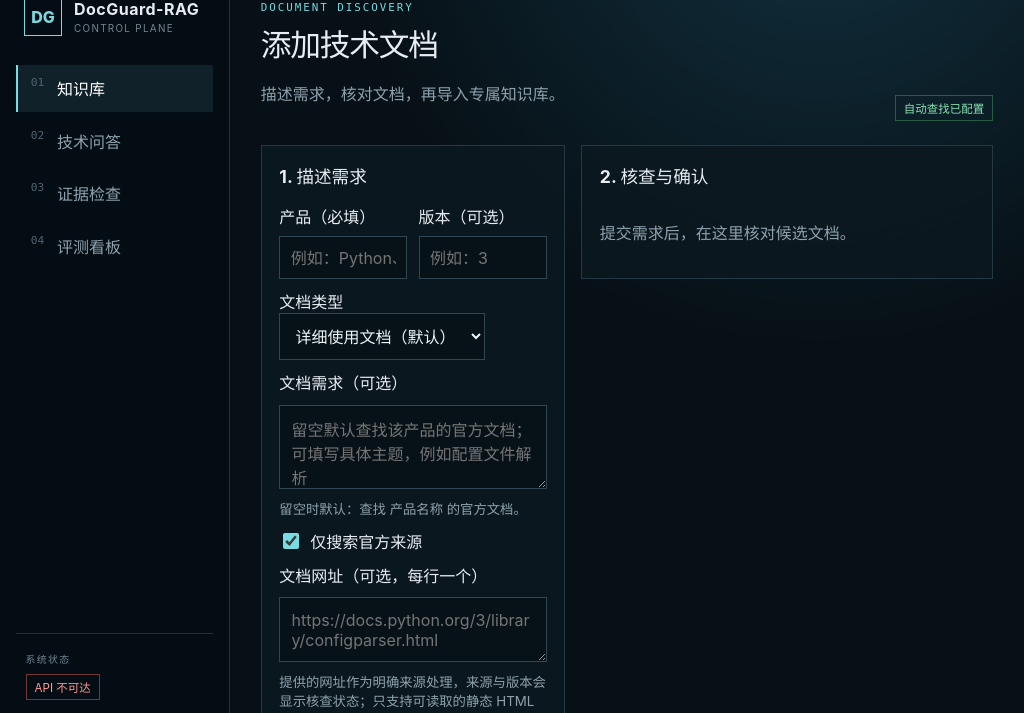
it: reuses the left panel for supplements after submission and keeps results on the right
Type "pandas" into the field labelled "产品（必填）" at (343, 258), box [279, 236, 407, 279]
(page scrolled)
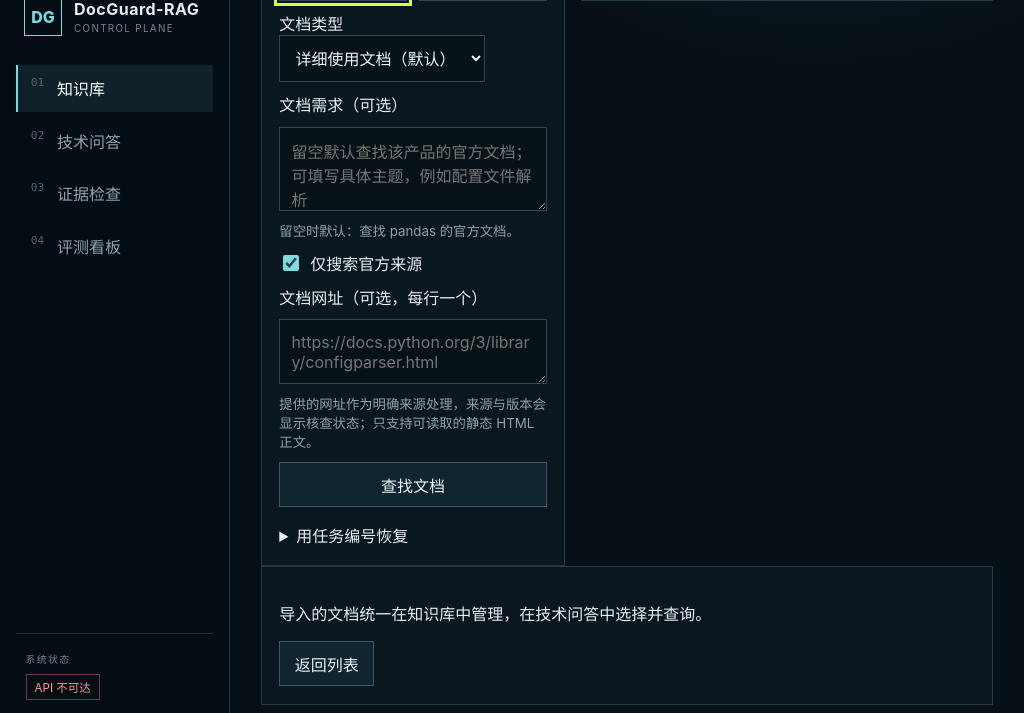
Click the button "查找文档" at (413, 484), box [279, 462, 547, 507]
(page scrolled)
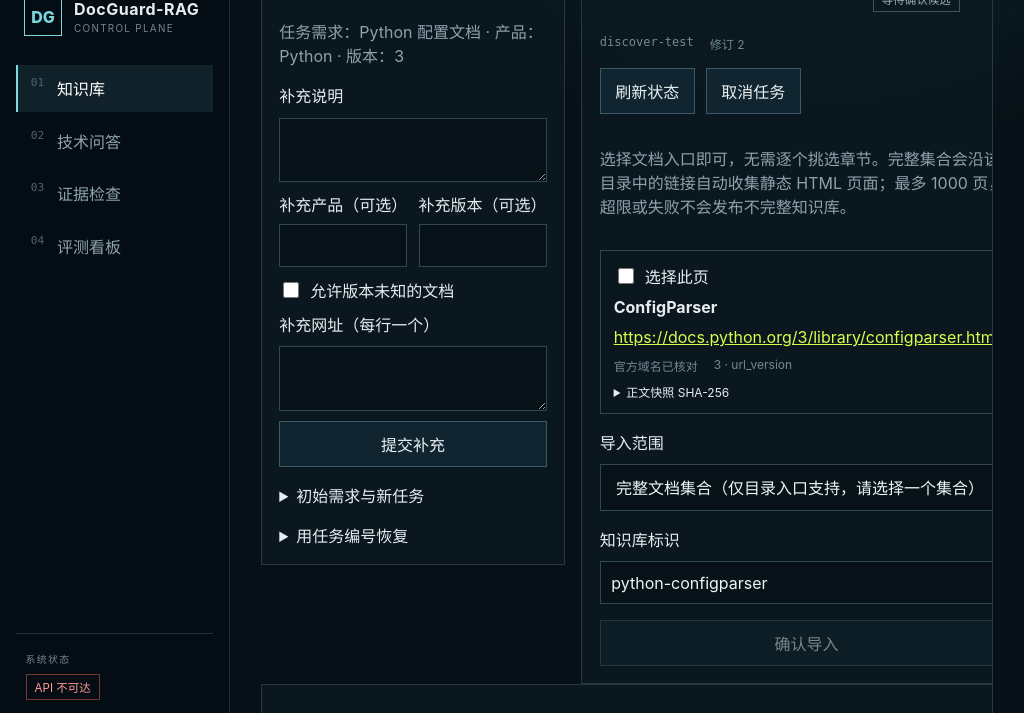
Expected: the text box labelled "补充说明" is shown, [279, 118, 547, 182]
Expected: the text "ConfigParser" is shown, [614, 297, 717, 317]
Click the heading "初始需求与新任务" at (360, 496), box [296, 486, 424, 506]
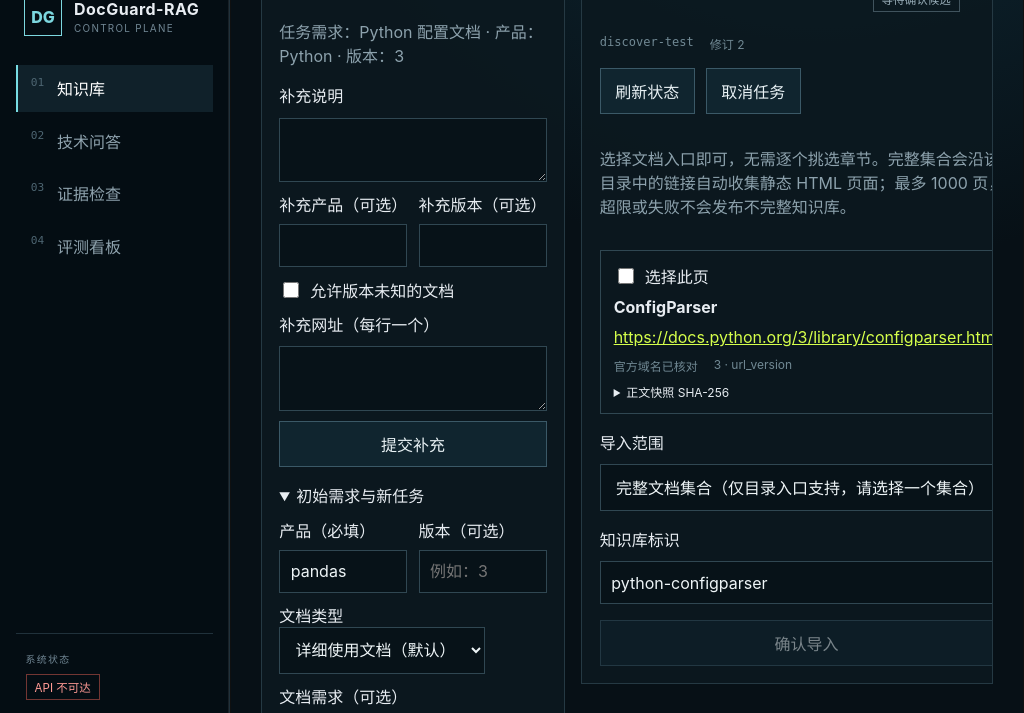
Expected: the field labelled "产品（必填）" is shown, [279, 550, 407, 593]
